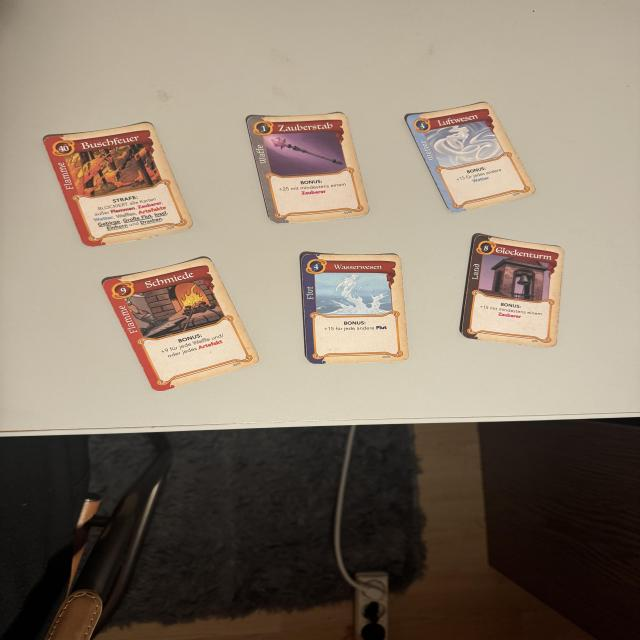Air Elemental: (399, 98, 540, 216)
Clock Tower: (459, 232, 567, 348)
Forge: (100, 254, 266, 394)
Magic Wand: (244, 111, 369, 224)
Water Elemental: (303, 250, 410, 363)
Wildfire: (42, 122, 196, 247)
